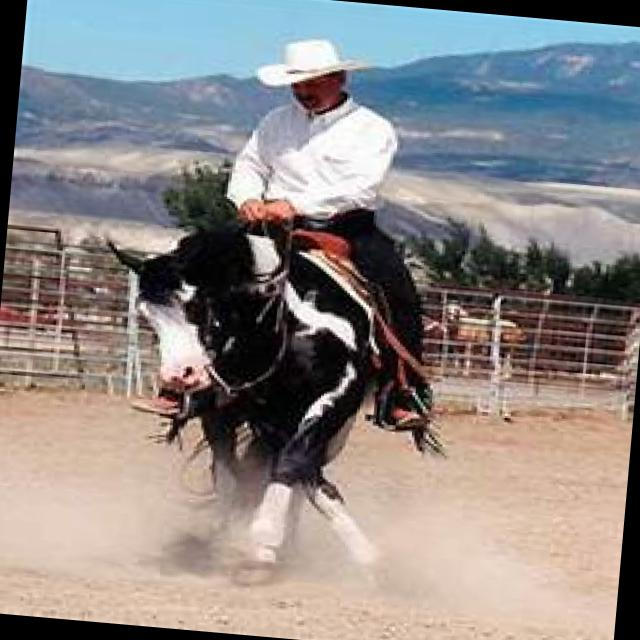animal: (74, 209, 397, 596)
